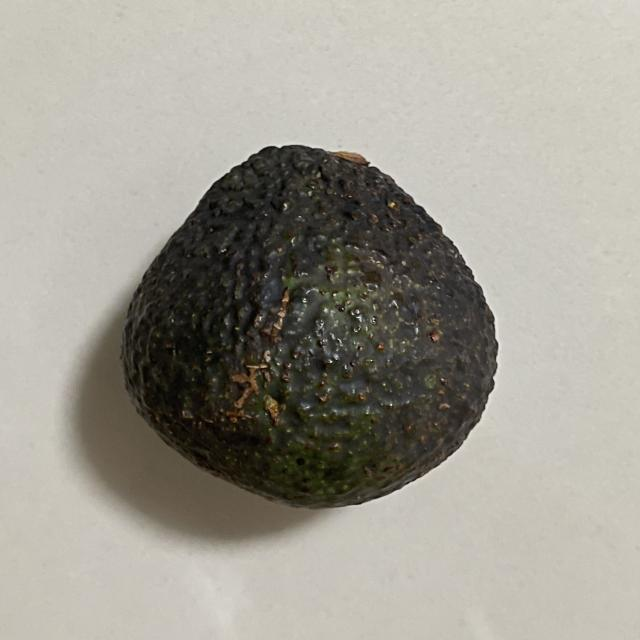avocado: (104, 132, 521, 523)
